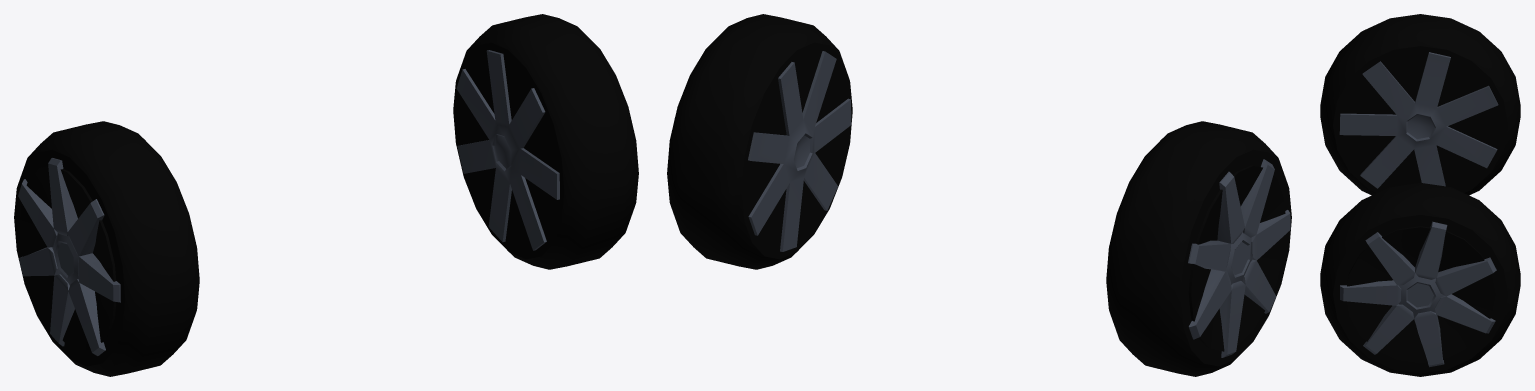
Rendered from rueda.obj.
3 views of the same model, side by side, from view 1: azimuth 30°, elevation 25°; view 2: azimuth 150°, elevation 25°; view 3: azimuth 270°, elevation 25° (orthographic). The views are drawn at different scales.
Visible parts, largest first — view 1: Ruedas_Tesla_Cybertruck.002; view 2: Ruedas_Tesla_Cybertruck.002; view 3: Ruedas_Tesla_Cybertruck.002.
Part boxes in pixels (bbox=[...]): Ruedas_Tesla_Cybertruck.002: bbox=[14, 14, 638, 376]; Ruedas_Tesla_Cybertruck.002: bbox=[667, 14, 1291, 376]; Ruedas_Tesla_Cybertruck.002: bbox=[1320, 14, 1520, 376].
Size of the model in its own units: 27.27 by 11.45 by 11.45.
Materials: 1 (1 with a texture image).
